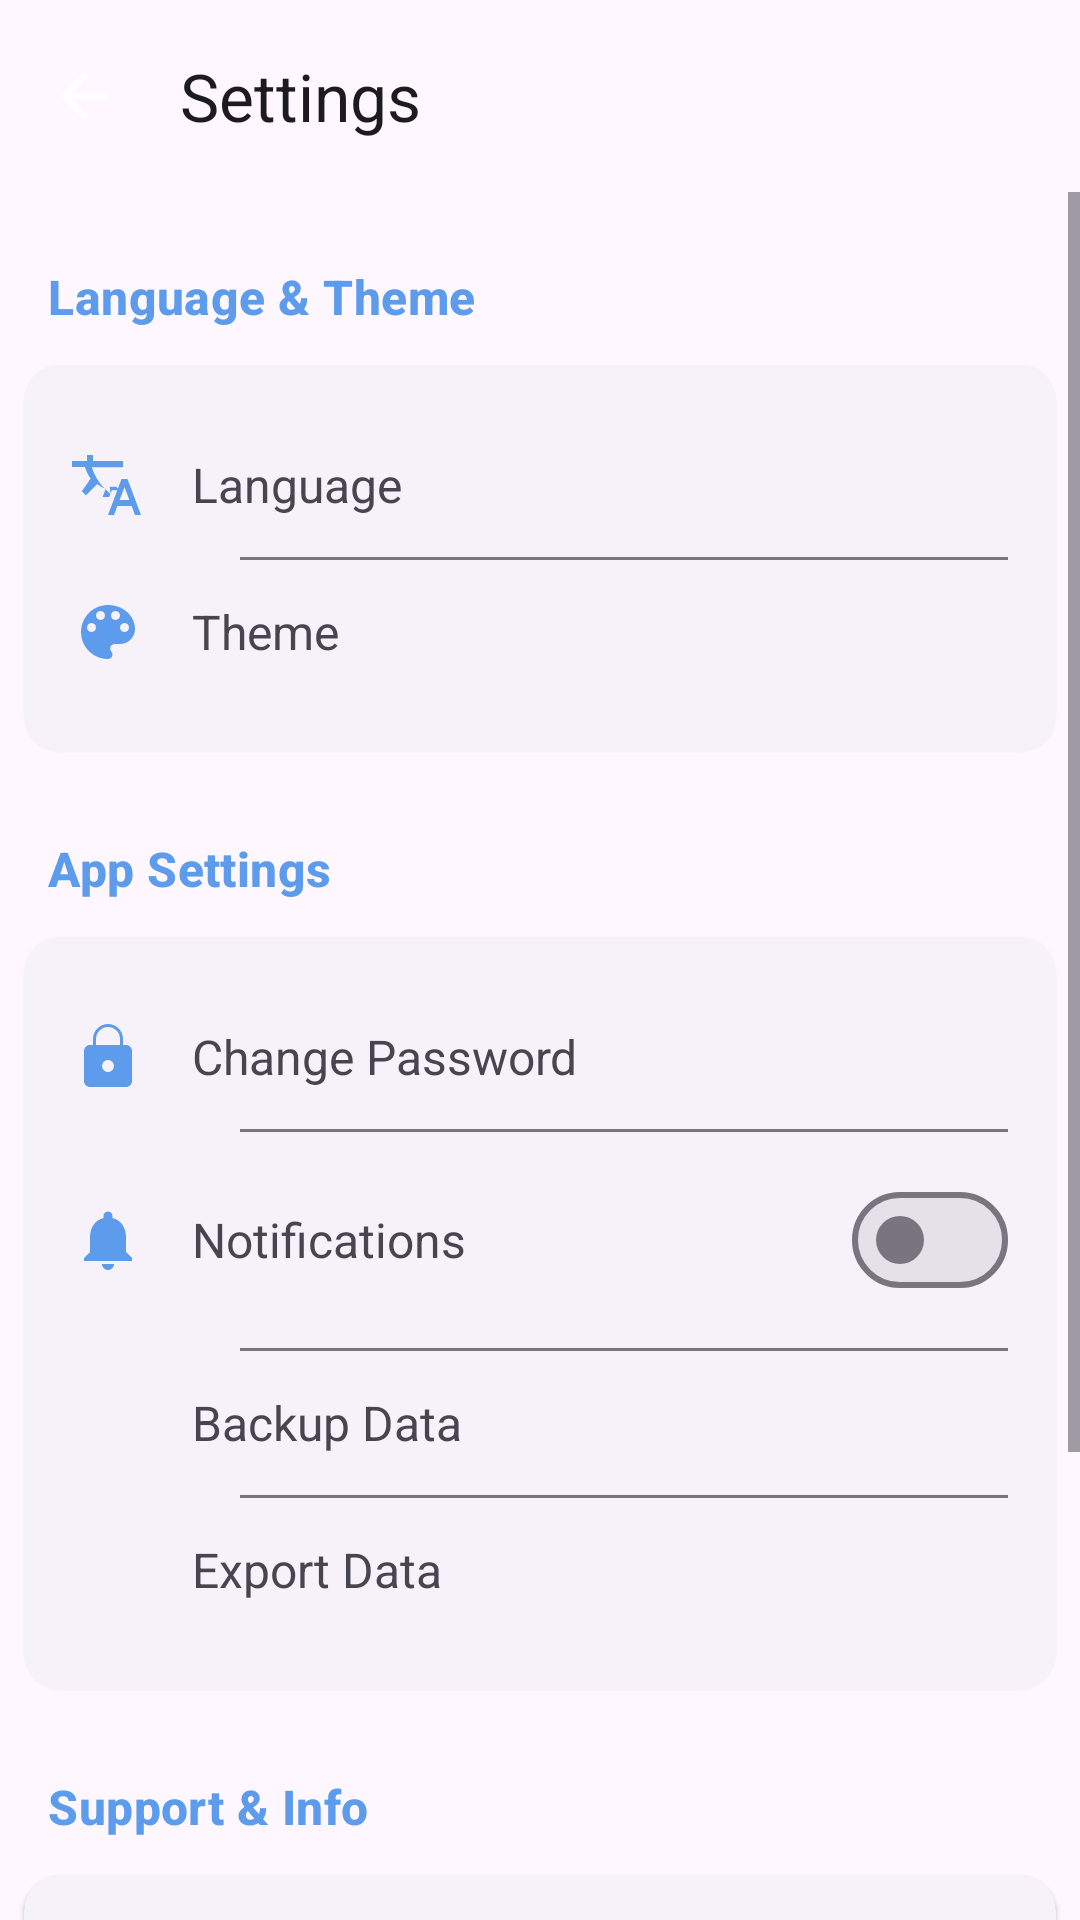

Icons on this 1080x1920 Android screen, each with its box as {"left": x1, "top": y1, "right": x2, "bottom": y2}:
lock settings: {"left": 84, "top": 1024, "right": 132, "bottom": 1087}
translate: {"left": 72, "top": 455, "right": 141, "bottom": 515}
